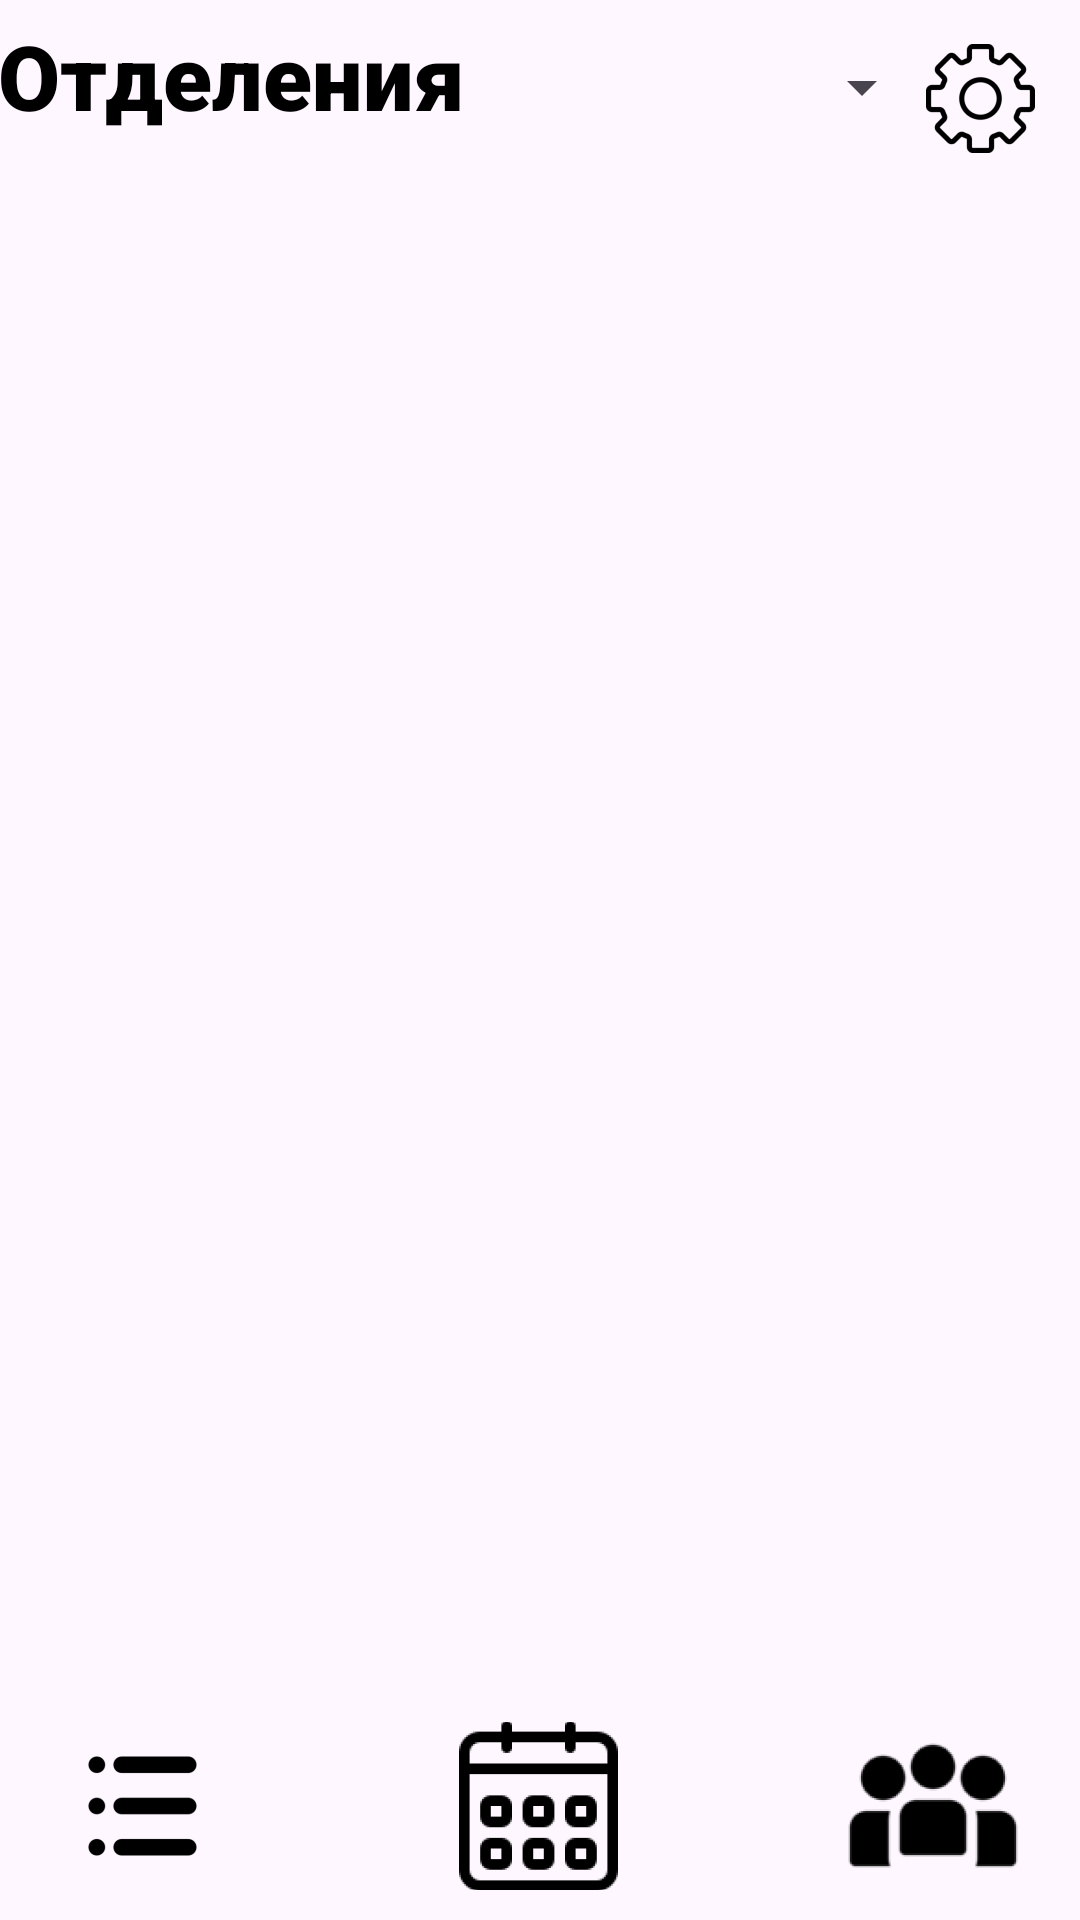

Where to tap for icons on this 1080px x 1920px app screen, as point (x, y):
calendar: point (538, 1806)
org: point (933, 1805)
settings: point (980, 98)
